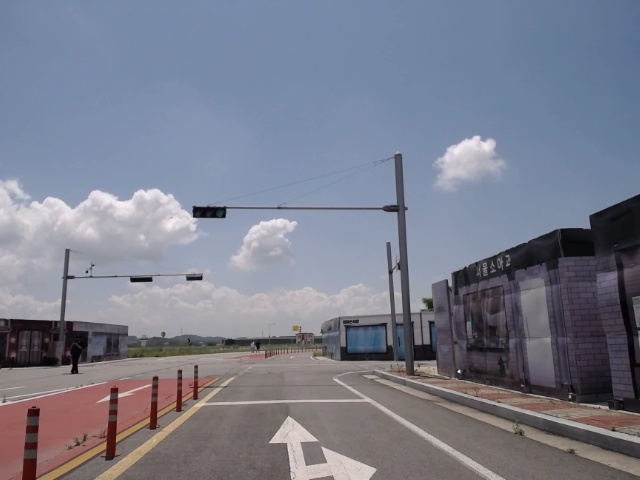green_3: (193, 208, 225, 218)
